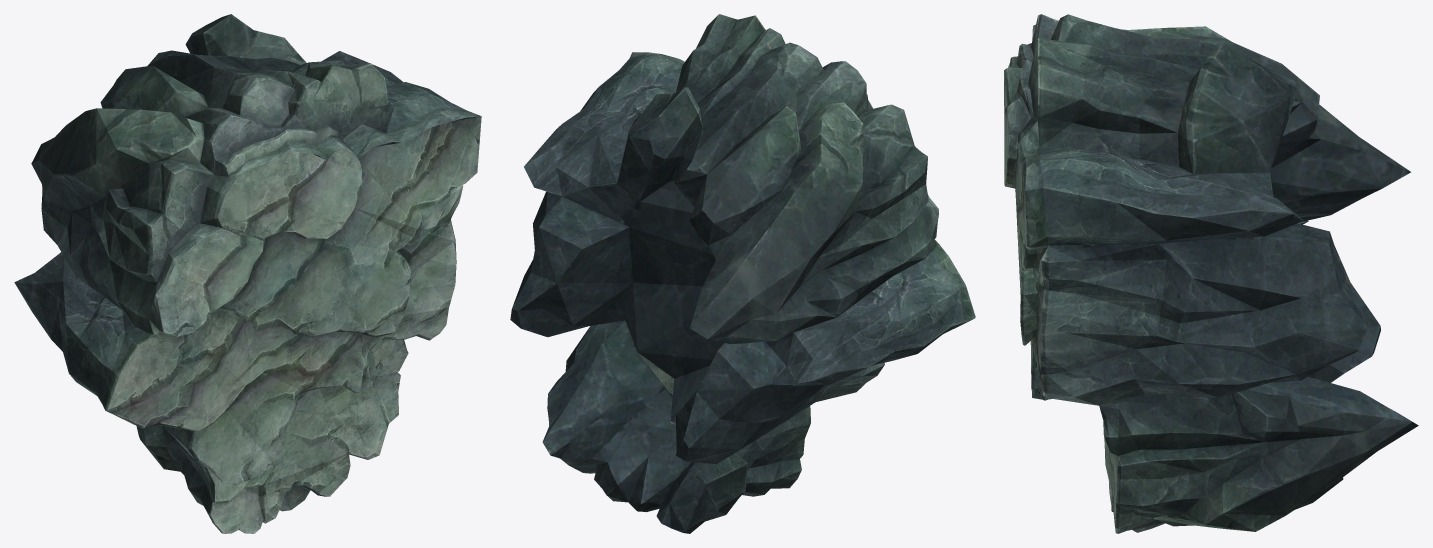
Rendered from huodong_fuben_417_shanshi03.obj.
3 views of the same model, side by side, from view 1: azimuth 30°, elevation 25°; view 2: azimuth 150°, elevation 25°; view 3: azimuth 270°, elevation 25° (orthographic). The views are drawn at different scales.
Parts seen in each view (by area): view 1: huodong_fuben_417_shanshi03; view 2: huodong_fuben_417_shanshi03; view 3: huodong_fuben_417_shanshi03.
Boxes of the visible parts, bbox=[...] form: huodong_fuben_417_shanshi03: bbox=[14, 14, 481, 533]; huodong_fuben_417_shanshi03: bbox=[510, 14, 975, 533]; huodong_fuben_417_shanshi03: bbox=[1004, 14, 1418, 533].
Size of the model in its own units: 326 by 398 by 302.
Materials: 3 (3 with a texture image).
